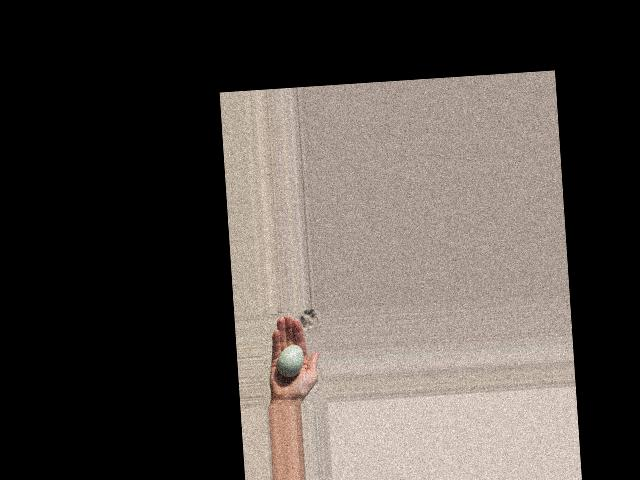egg: (275, 343, 304, 377)
